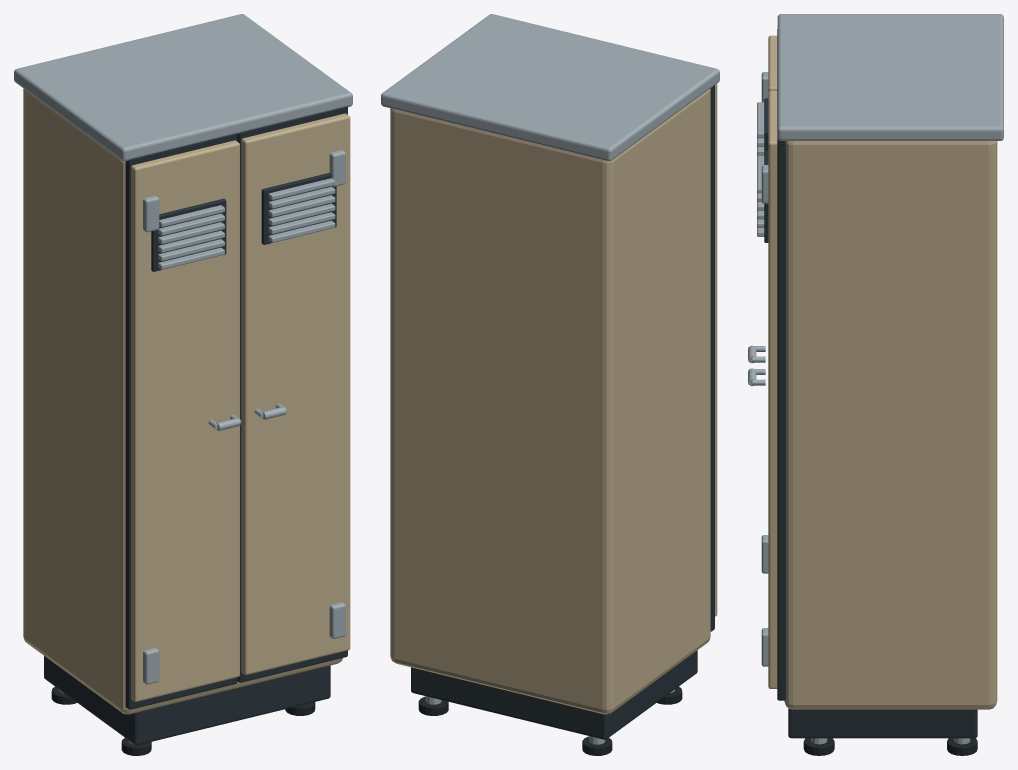
File: RD_PersonalLocker.fbx
The picture shows the model from 3 angles, left to right: view 1: azimuth 30°, elevation 25°; view 2: azimuth 150°, elevation 25°; view 3: azimuth 270°, elevation 25°; orthographic projection. The views are drawn at different scales.
Visible parts, largest first — view 1: RD_PersonalLocker; view 2: RD_PersonalLocker; view 3: RD_PersonalLocker.
Boxes of the visible parts, x1,y1,x2,y2 form: RD_PersonalLocker: (14, 14, 352, 755); RD_PersonalLocker: (381, 14, 719, 755); RD_PersonalLocker: (748, 14, 1003, 755).
Bounding box in the file's own units: 70.5 × 182 × 66.12.
